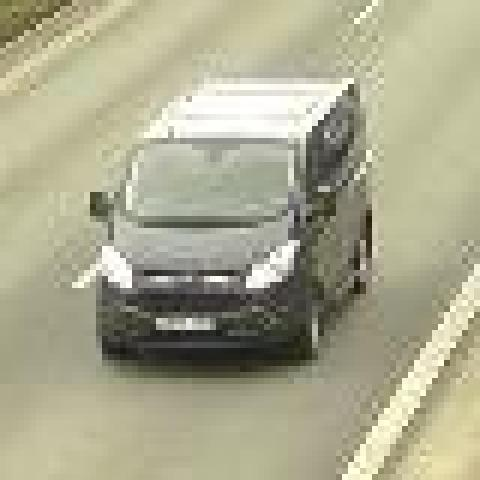van: (99, 84, 369, 372)
